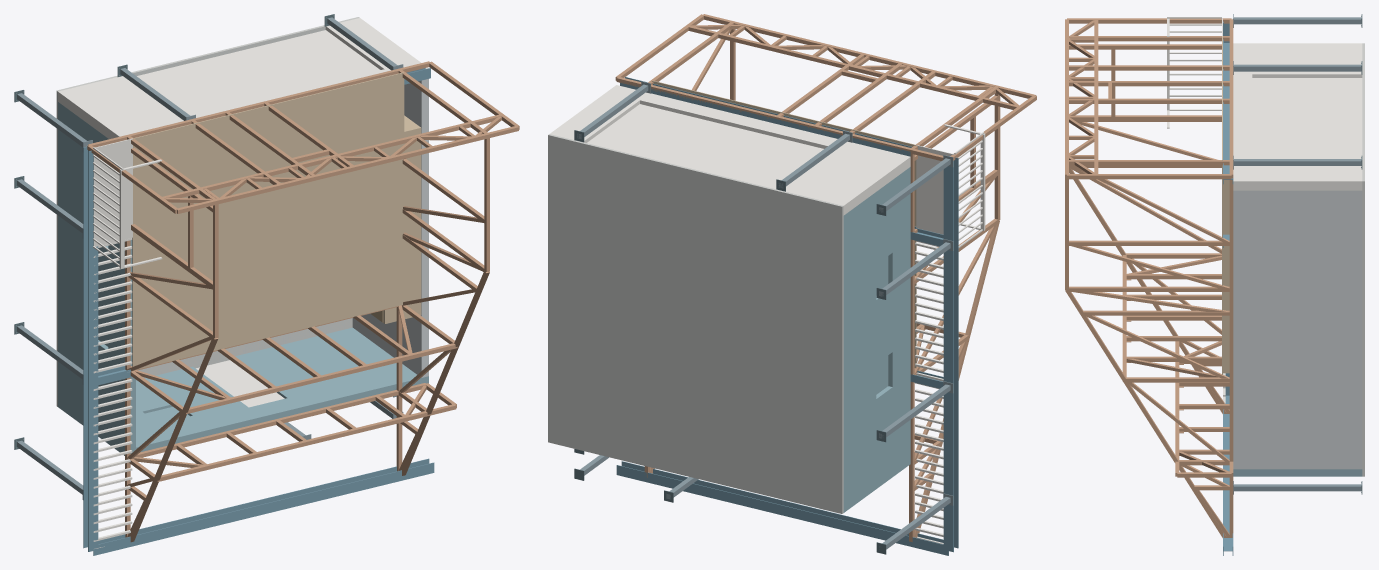
Rendered from garage-framing.gltf.
3 renders of one model, left to right at view 1: azimuth 30°, elevation 25°; view 2: azimuth 150°, elevation 25°; view 3: azimuth 270°, elevation 25°, orthographic. The views are drawn at different scales.
Visible parts, largest first — view 1: Renderer Node; view 2: Renderer Node; view 3: Renderer Node.
Boxes of the visible parts, x1,y1,x2,y2 form: Renderer Node: (14, 14, 519, 555); Renderer Node: (548, 14, 1036, 555); Renderer Node: (1065, 14, 1364, 555).
Bounding box in the file's own units: 7.29 × 8.23 × 5.82.
